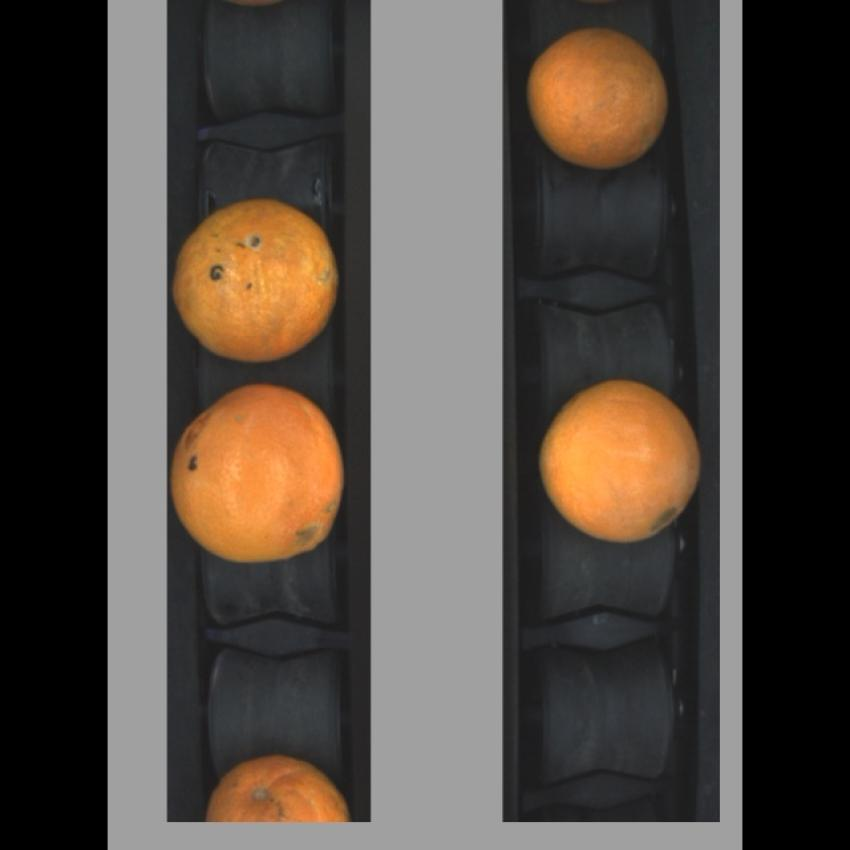Mal estado: (169, 380, 347, 569), (534, 370, 706, 554), (170, 195, 342, 364), (520, 22, 675, 174), (204, 747, 355, 820)
